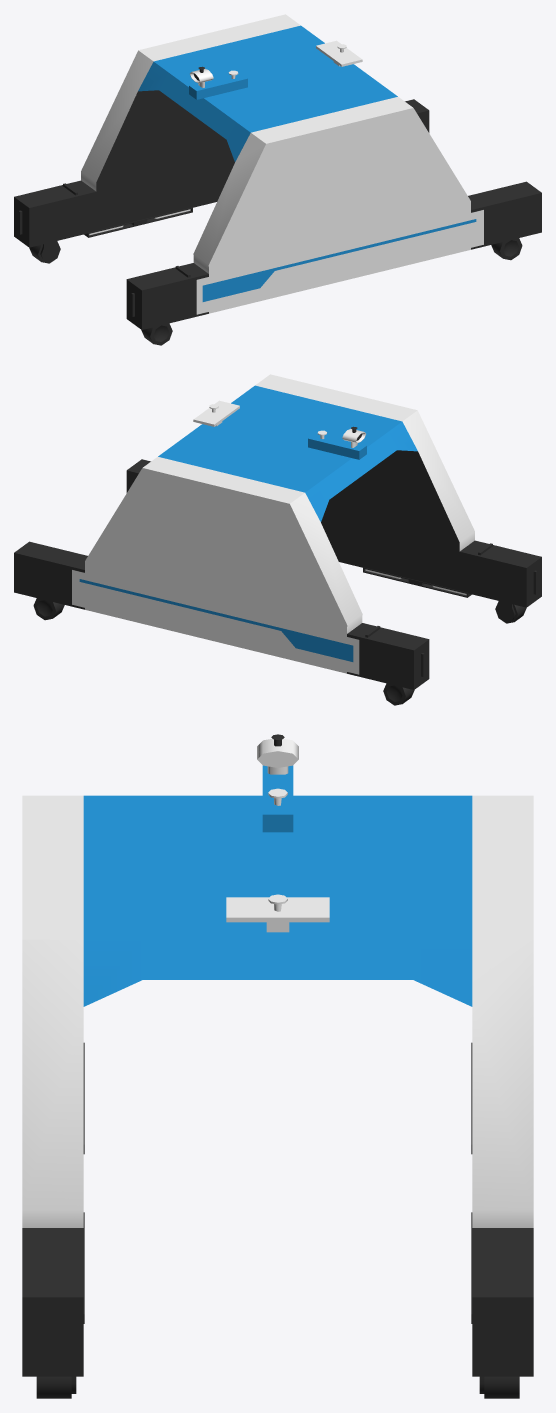
The model's file is agv.glb.
3 renders of one model, top to bottom at view 1: azimuth 30°, elevation 25°; view 2: azimuth 150°, elevation 25°; view 3: azimuth 270°, elevation 25°, orthographic. The views are drawn at different scales.
Visible parts, largest first — view 1: ytg_zx_gk_agvc_01; view 2: ytg_zx_gk_agvc_01; view 3: ytg_zx_gk_agvc_01.
Boxes of the visible parts, x1=… form: ytg_zx_gk_agvc_01: x1=14, y1=14, x2=541, y2=345; ytg_zx_gk_agvc_01: x1=14, y1=374, x2=541, y2=705; ytg_zx_gk_agvc_01: x1=22, y1=734, x2=533, y2=1398.
Bounding box in the file's own units: 5.31 × 2.64 × 2.96.
